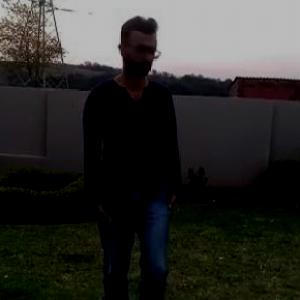follow: (79, 9, 192, 299)
